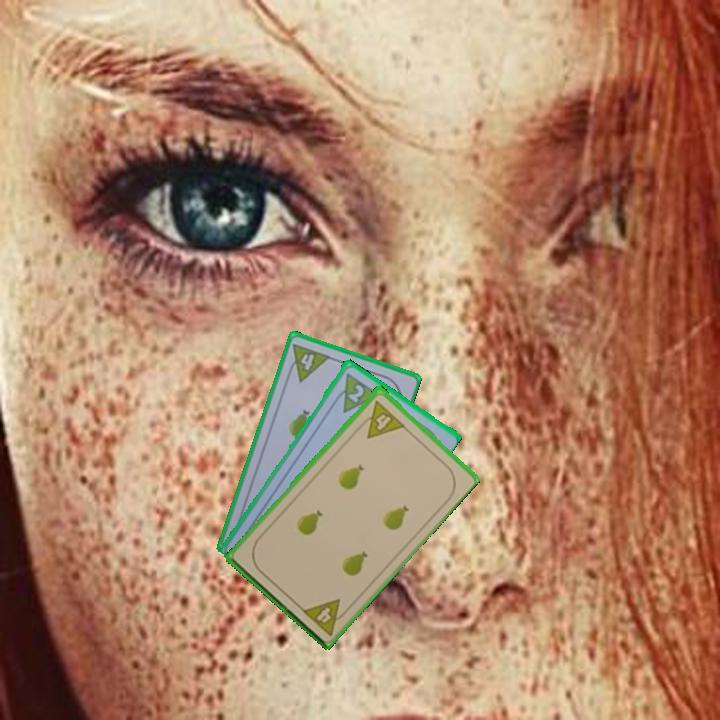2p: (328, 368, 381, 415)
4p: (354, 396, 407, 441), (298, 595, 353, 638), (283, 340, 333, 385)
